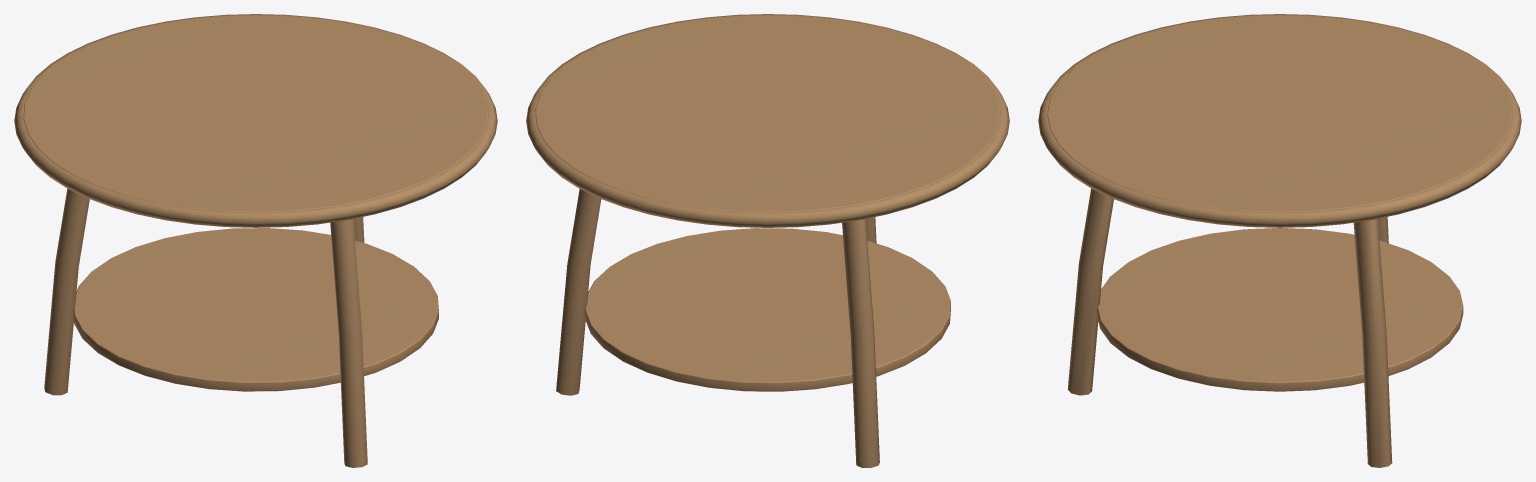
The model's file is Moon_Tea_Table.fbx.
3 views of the same model, side by side, from view 1: azimuth 30°, elevation 25°; view 2: azimuth 150°, elevation 25°; view 3: azimuth 270°, elevation 25° (orthographic).
Parts seen in each view (by area): view 1: Moon_Tea_Table_Mesh; view 2: Moon_Tea_Table_Mesh; view 3: Moon_Tea_Table_Mesh.
Boxes of the visible parts, left/top/right/bottom form: Moon_Tea_Table_Mesh: left=14, top=14, right=497, bottom=467; Moon_Tea_Table_Mesh: left=526, top=14, right=1009, bottom=467; Moon_Tea_Table_Mesh: left=1038, top=14, right=1521, bottom=467.
Bounding box in the file's own units: 0.87 × 0.5518 × 0.87.
